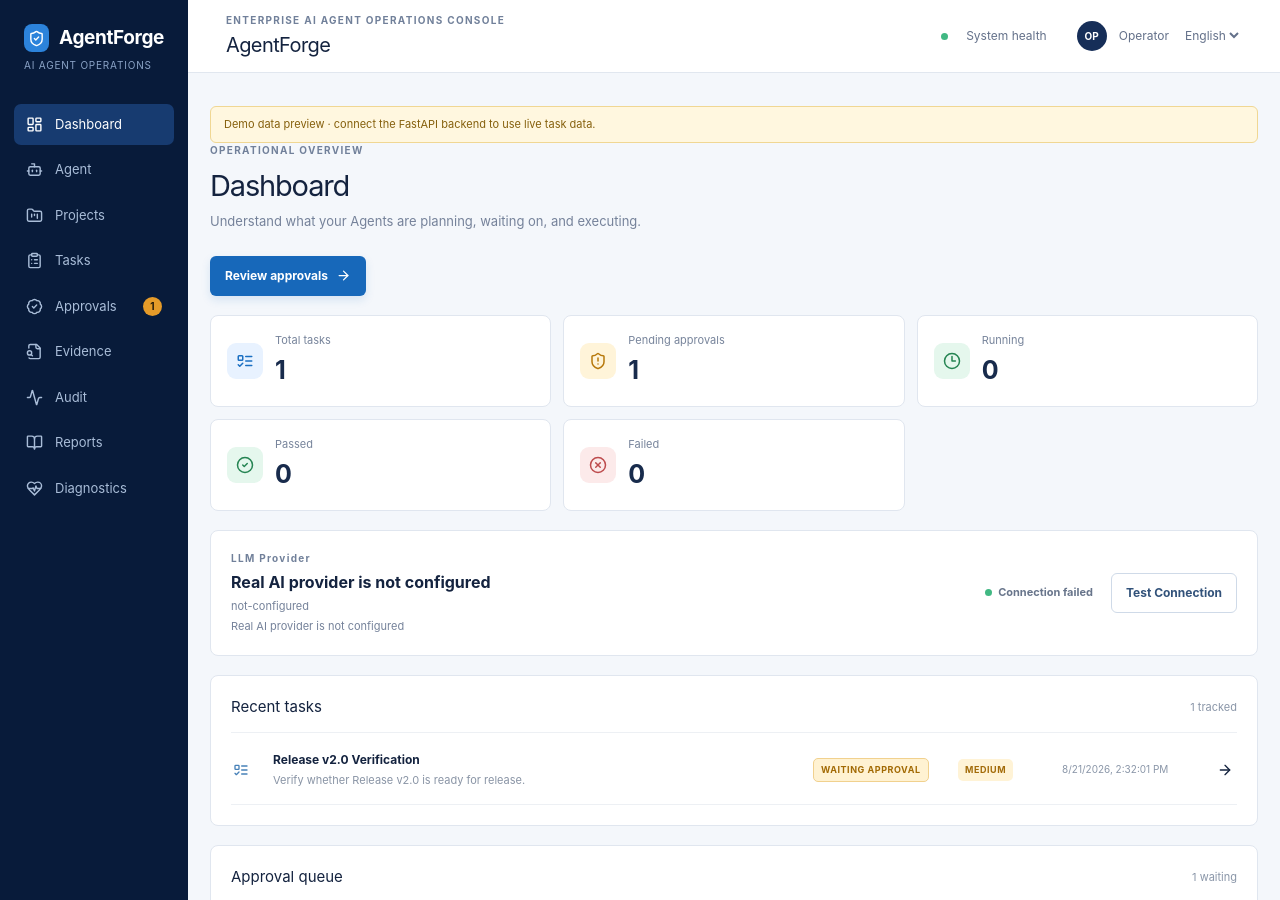
Test: AgentForge operations console › keeps the successful connection result when the initial status request resolves late
This screenshot has width=1280, height=900.
Click the button "Test Connection": click(1174, 592) [1111,572,1237,612]
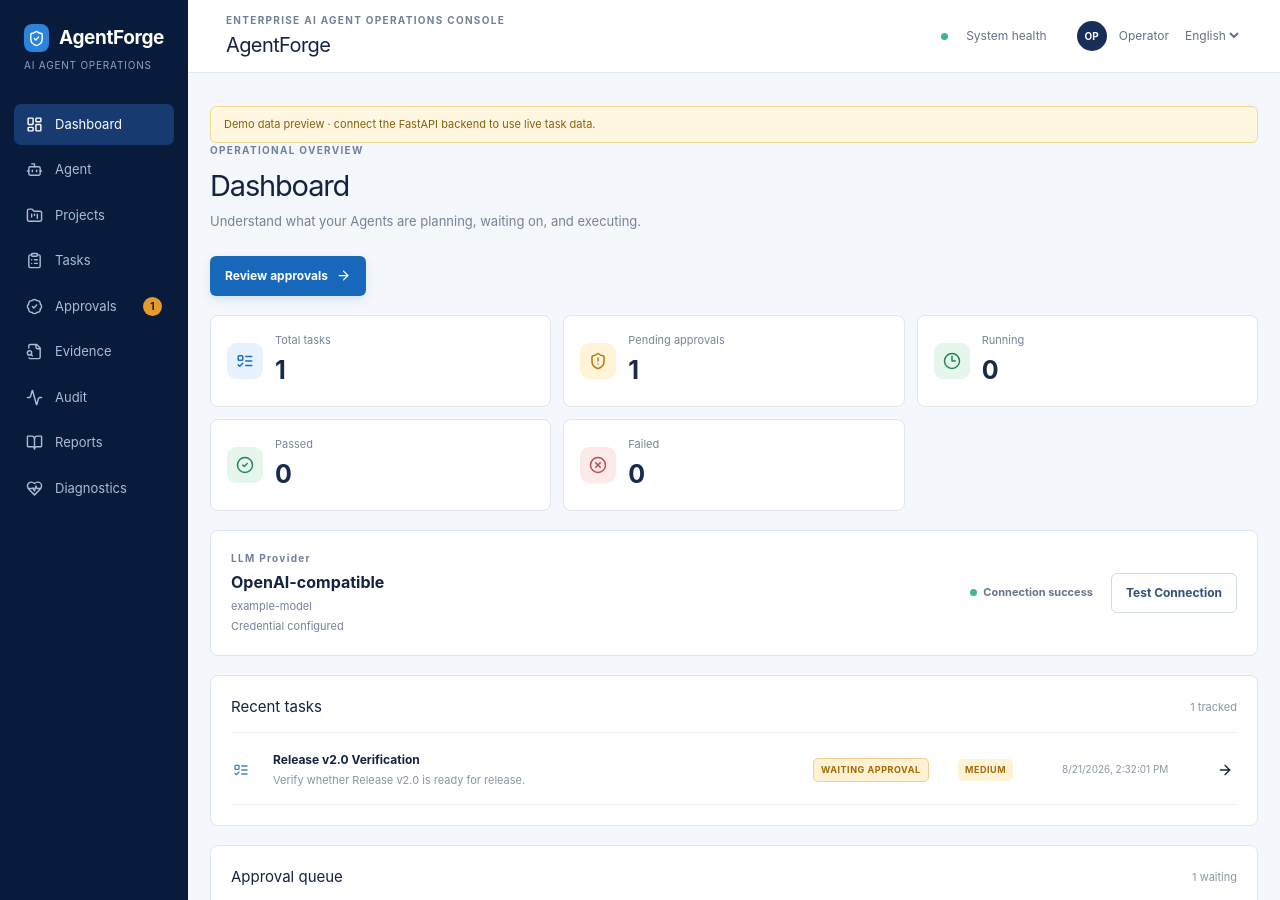
Now the text "Connection success" is shown, box [970,584,1093,601]
